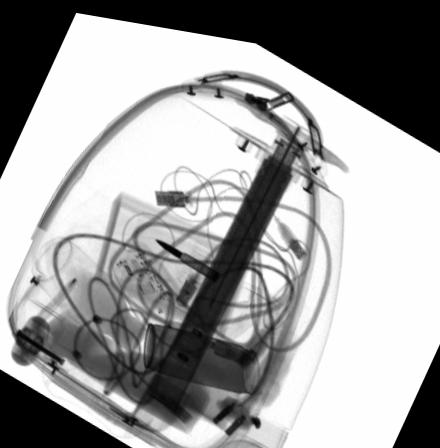Bullet: (152, 232, 218, 274)
